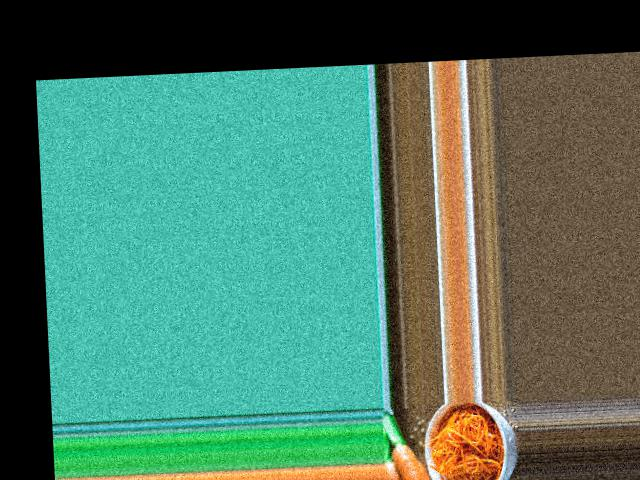carrot: (393, 440, 426, 480)
